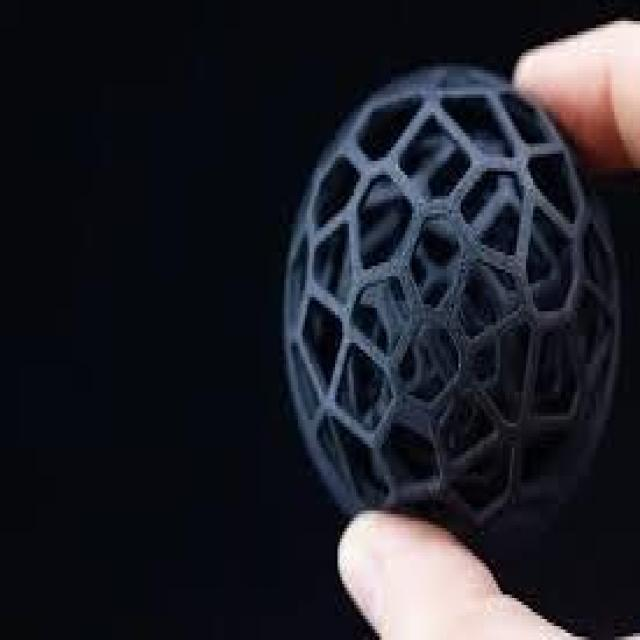Without deffect: (274, 39, 624, 580)
